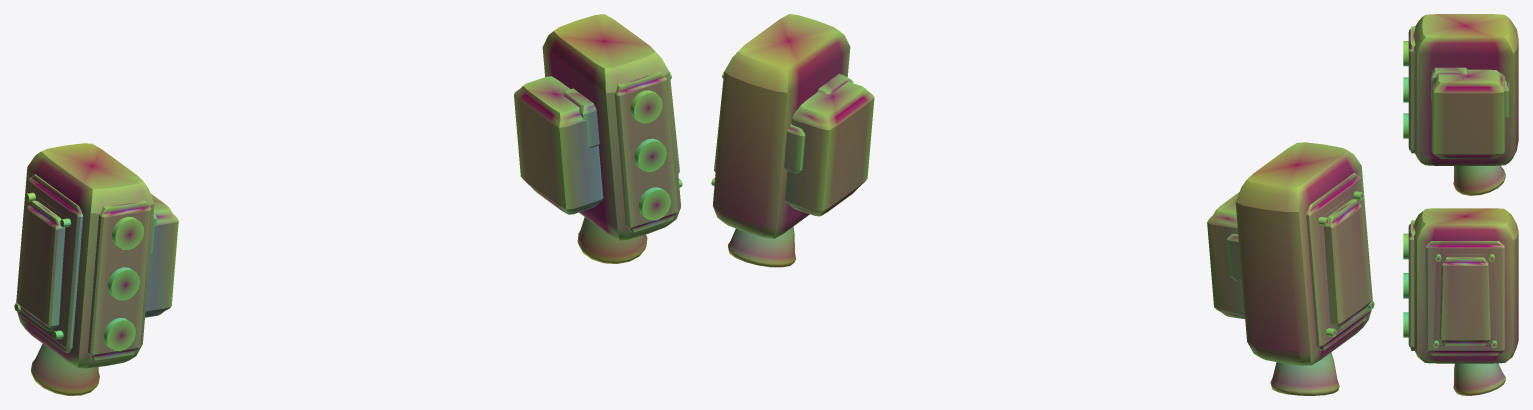
File: llm_gen_leg_thrusters_068_f71cf5.glb
The picture shows the model from 3 angles, left to right: view 1: azimuth 30°, elevation 25°; view 2: azimuth 150°, elevation 25°; view 3: azimuth 270°, elevation 25°; orthographic projection. The views are drawn at different scales.
Visible parts, largest first — view 1: leg_missile_hull_0_crimson_gloss_r, leg_missile_hull_0_crimson_gloss_l, adapter_calf_clamp_r, leg_pod_armor_cover_6_adapter_dark_l, adapter_sub_missile_bezel_dark_1_adapter_dark_l, adapter_sub_missile_bezel_dark_1_adapter_dark_r, adapter_sub_side_frame_dark_5_adapter_dark_l, adapter_calf_clamp_l, leg_ankle_bell_7_vernier_bell_vernier_l, leg_ankle_bell_7_vernier_bell_vernier_r, adapter_leg_knee_mount_dark_10_adapter_dark_r, leg_cell_top_2_gold_r (+5 smaller); view 2: leg_missile_hull_0_crimson_gloss_r, leg_missile_hull_0_crimson_gloss_l, adapter_calf_clamp_r, leg_pod_armor_cover_6_adapter_dark_l, adapter_sub_side_frame_dark_5_adapter_dark_l, adapter_calf_clamp_l, leg_ankle_bell_7_vernier_bell_vernier_l, leg_ankle_bell_7_vernier_bell_vernier_r, adapter_leg_tank_collar_dark_11_adapter_dark_r, adapter_leg_tank_collar_dark_11_adapter_dark_l; view 3: leg_missile_hull_0_crimson_gloss_l, leg_missile_hull_0_crimson_gloss_r, adapter_calf_clamp_l, leg_pod_armor_cover_6_adapter_dark_r, adapter_sub_side_frame_dark_5_adapter_dark_r, leg_ankle_bell_7_vernier_bell_vernier_r, leg_ankle_bell_7_vernier_bell_vernier_l, adapter_sub_missile_bezel_dark_1_adapter_dark_r, adapter_sub_missile_bezel_dark_1_adapter_dark_l, adapter_leg_knee_mount_dark_10_adapter_dark_l, adapter_leg_tank_collar_dark_11_adapter_dark_l, leg_cell_top_2_gold_r (+5 smaller).
Part boxes in pixels (x1,y1,x2,y2): leg_missile_hull_0_crimson_gloss_r: (542, 14, 680, 240); leg_missile_hull_0_crimson_gloss_l: (16, 143, 154, 368); adapter_calf_clamp_r: (514, 76, 603, 214); leg_pod_armor_cover_6_adapter_dark_l: (14, 192, 71, 339); adapter_sub_missile_bezel_dark_1_adapter_dark_l: (87, 200, 151, 360); adapter_sub_missile_bezel_dark_1_adapter_dark_r: (614, 71, 678, 232); adapter_sub_side_frame_dark_5_adapter_dark_l: (17, 174, 83, 353); adapter_calf_clamp_l: (145, 193, 178, 317); leg_ankle_bell_7_vernier_bell_vernier_l: (31, 344, 99, 395); leg_ankle_bell_7_vernier_bell_vernier_r: (577, 217, 647, 263); adapter_leg_knee_mount_dark_10_adapter_dark_r: (562, 88, 599, 147); leg_cell_top_2_gold_r: (630, 90, 662, 123); leg_missile_hull_0_crimson_gloss_r: (713, 14, 850, 238); leg_missile_hull_0_crimson_gloss_l: (1235, 142, 1372, 365); adapter_calf_clamp_r: (785, 81, 874, 216); leg_pod_armor_cover_6_adapter_dark_l: (1318, 191, 1374, 336); adapter_sub_side_frame_dark_5_adapter_dark_l: (1306, 173, 1371, 350); adapter_calf_clamp_l: (1207, 192, 1245, 319); leg_ankle_bell_7_vernier_bell_vernier_l: (1270, 352, 1339, 395); leg_ankle_bell_7_vernier_bell_vernier_r: (728, 226, 795, 267); adapter_leg_tank_collar_dark_11_adapter_dark_r: (784, 124, 805, 173); adapter_leg_tank_collar_dark_11_adapter_dark_l: (1226, 233, 1241, 281); leg_missile_hull_0_crimson_gloss_l: (1414, 14, 1518, 165); leg_missile_hull_0_crimson_gloss_r: (1414, 208, 1518, 363); adapter_calf_clamp_l: (1431, 69, 1505, 159); leg_pod_armor_cover_6_adapter_dark_r: (1432, 254, 1497, 347); adapter_sub_side_frame_dark_5_adapter_dark_r: (1425, 241, 1504, 355); leg_ankle_bell_7_vernier_bell_vernier_r: (1453, 363, 1505, 395); leg_ankle_bell_7_vernier_bell_vernier_l: (1453, 165, 1505, 195); adapter_sub_missile_bezel_dark_1_adapter_dark_r: (1408, 220, 1415, 350); adapter_sub_missile_bezel_dark_1_adapter_dark_l: (1408, 26, 1415, 153); adapter_leg_knee_mount_dark_10_adapter_dark_l: (1431, 67, 1467, 100); adapter_leg_tank_collar_dark_11_adapter_dark_l: (1505, 80, 1509, 119); leg_cell_top_2_gold_r: (1403, 233, 1408, 259).
Size of the model in its own units: 82.81 by 27.94 by 17.17.
